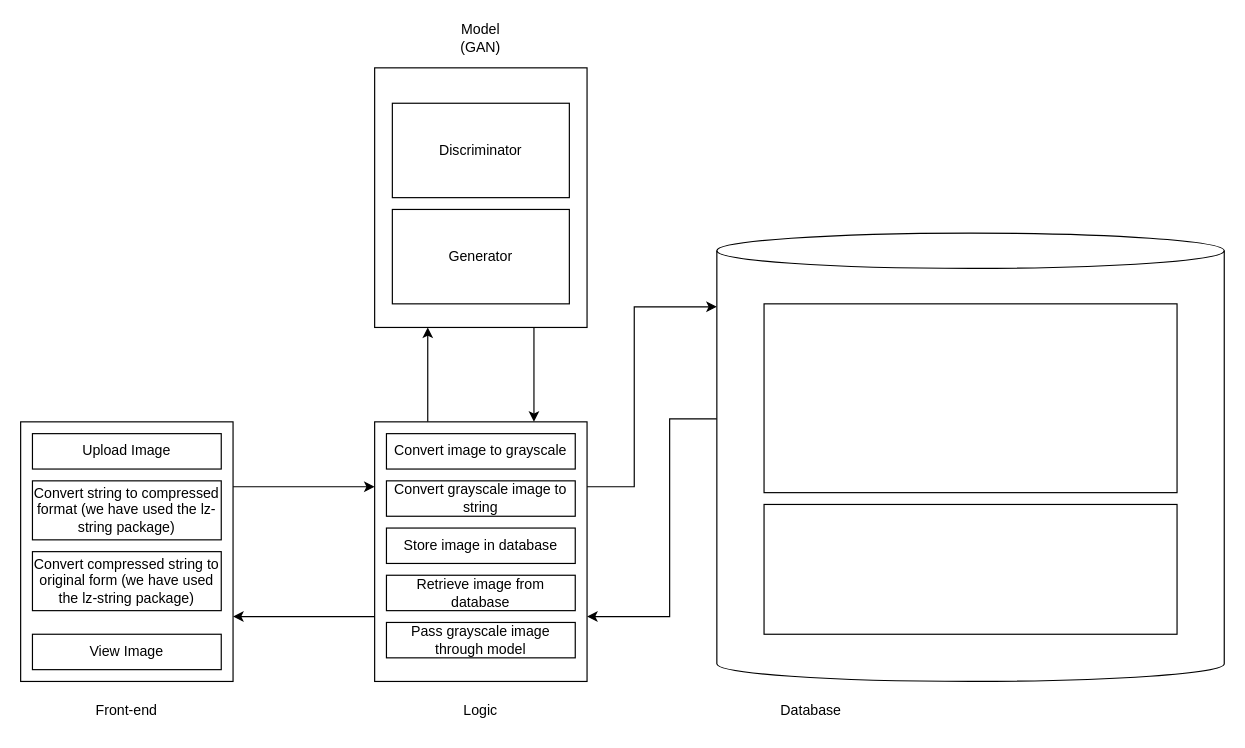
This 1245x748 diagram has some shape labels left out. The shapes that lost their labels are listed below. From the top down, each one's centre as x and y in pixels, then its label:
At point 970,398: "Image data".
At point 970,568: "Use Data".
